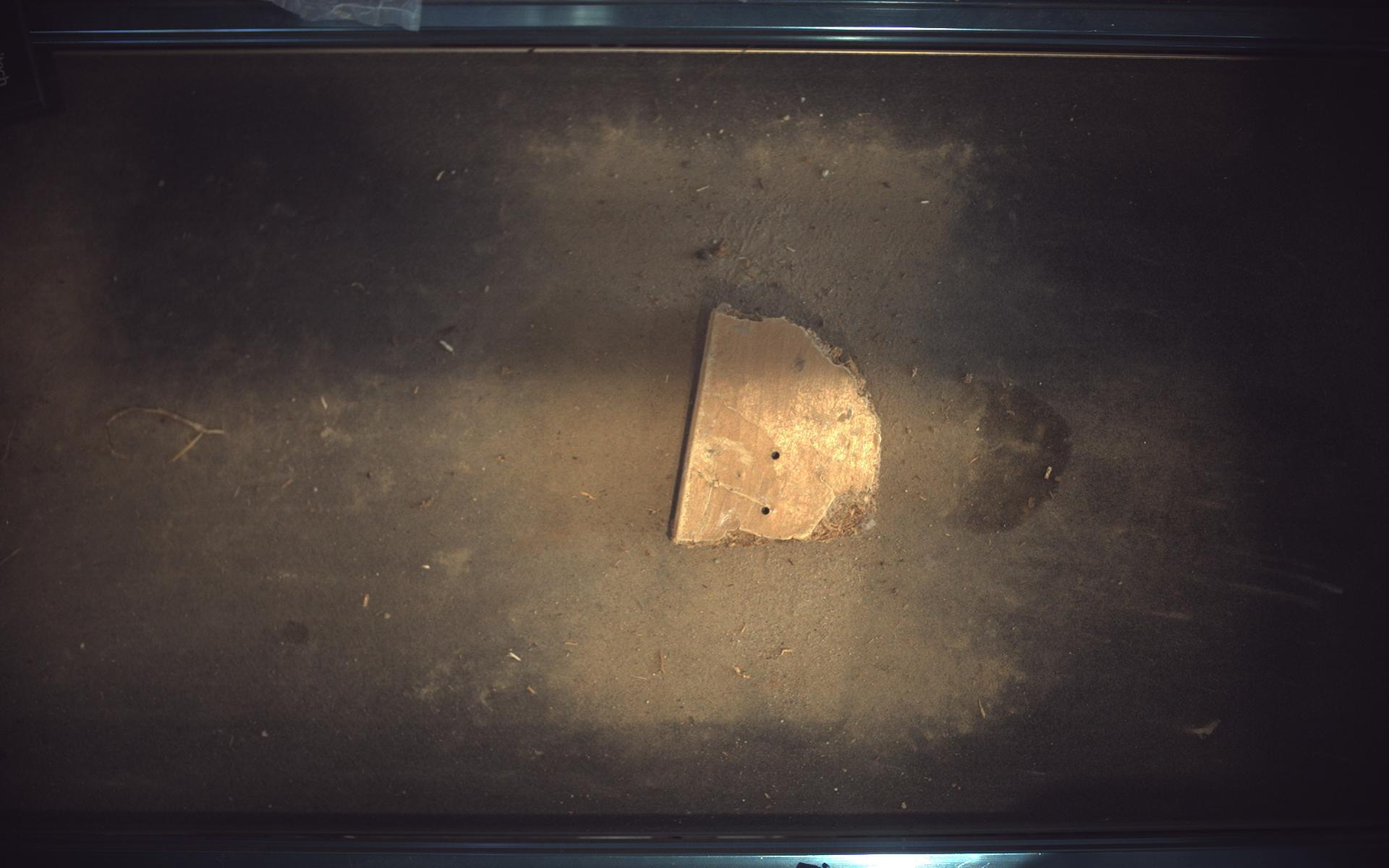wood: (673, 304, 882, 545)
